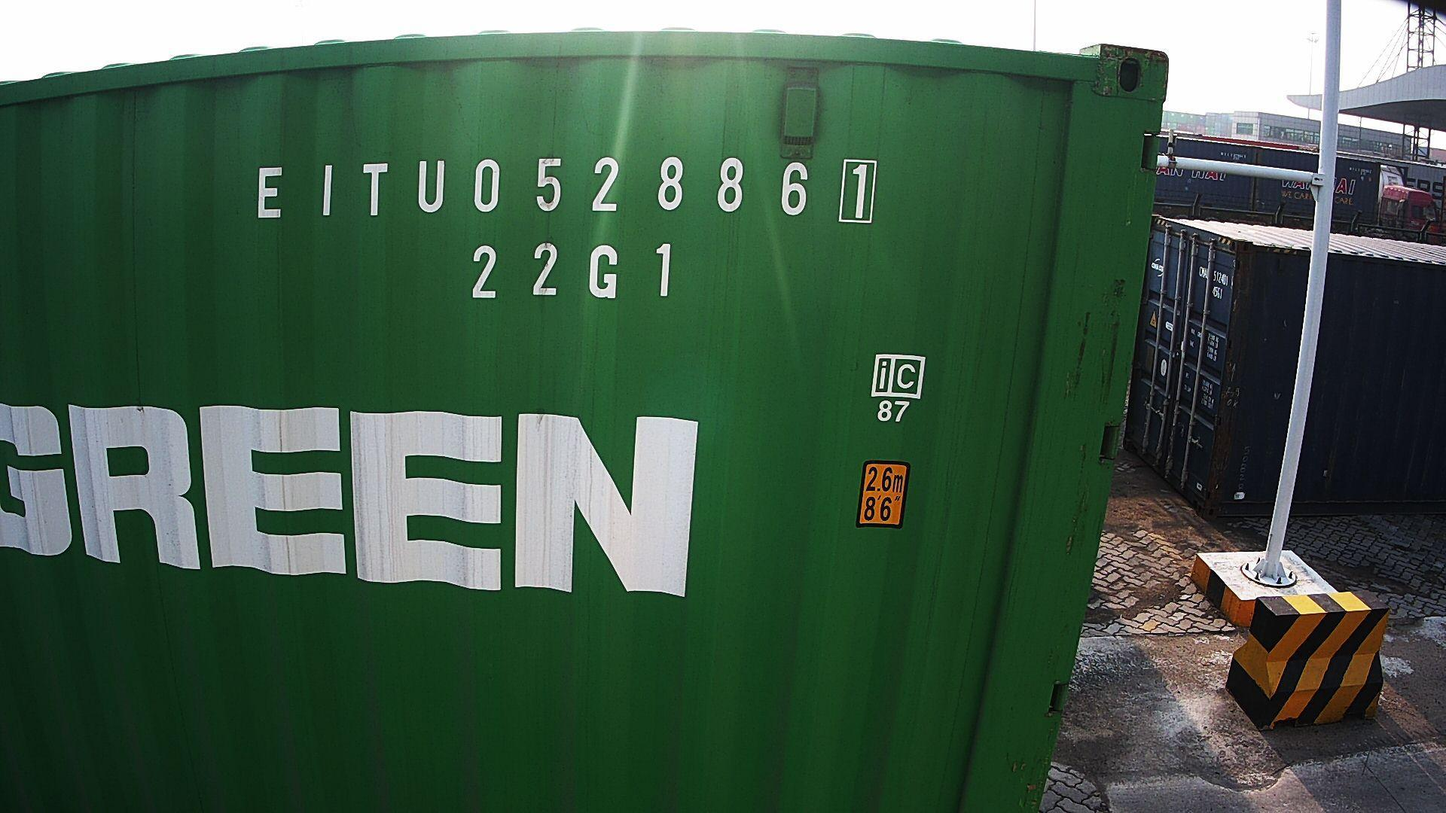container-numbers: (243, 153, 884, 231), (459, 239, 678, 308)
